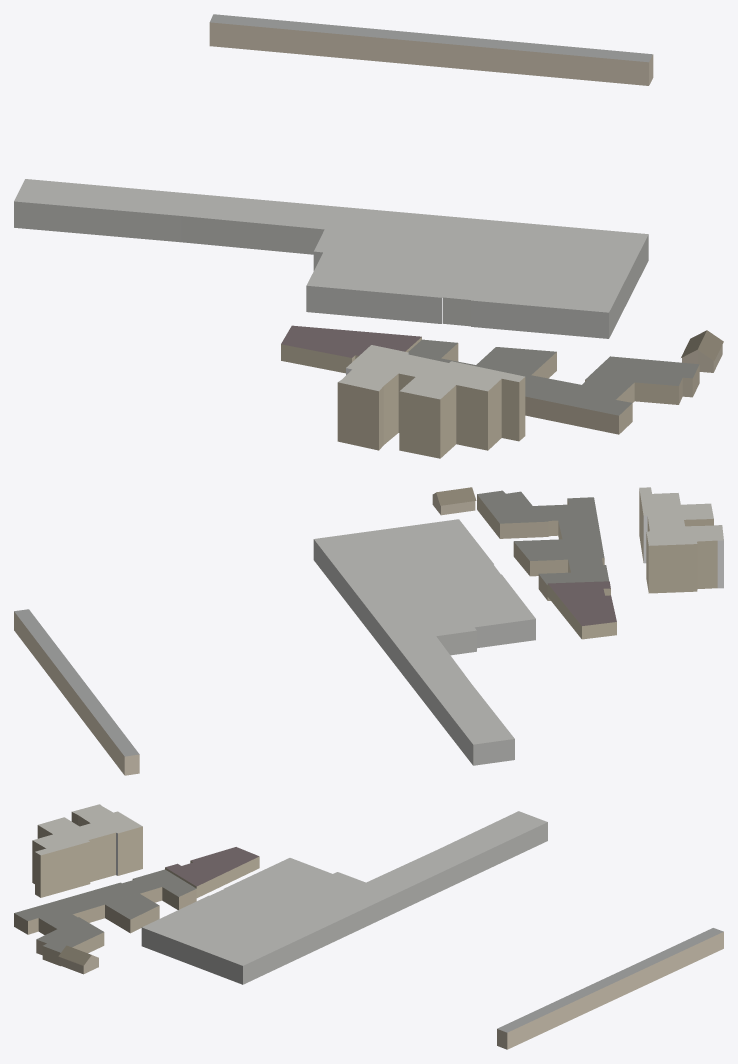
The picture shows the model from 3 angles, top to bottom: view 1: azimuth 30°, elevation 25°; view 2: azimuth 150°, elevation 25°; view 3: azimuth 270°, elevation 25°; orthographic projection. The views are drawn at different scales.
Parts seen in each view (by area): view 1: tuile; view 2: tuile; view 3: tuile.
Part boxes in pixels (bbox=[...]): tuile: bbox=[14, 14, 723, 458]; tuile: bbox=[14, 487, 723, 775]; tuile: bbox=[14, 804, 723, 1049].
Size of the model in its own units: 238 by 22.62 by 323.
